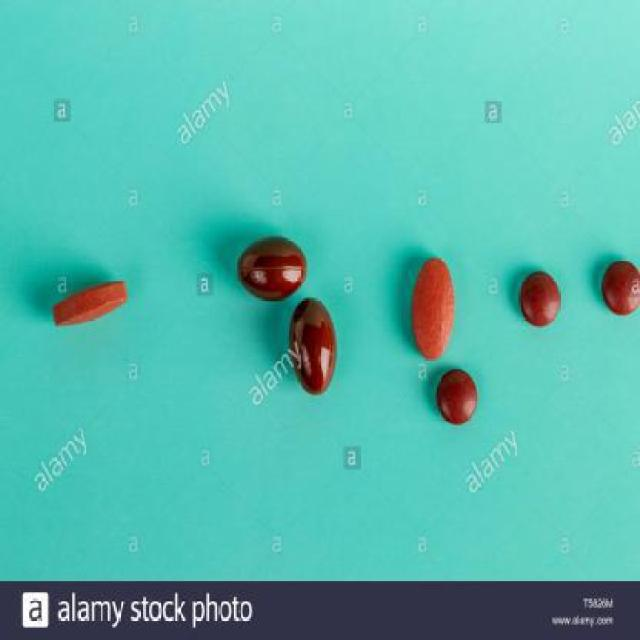B3: (49, 232, 640, 432)
